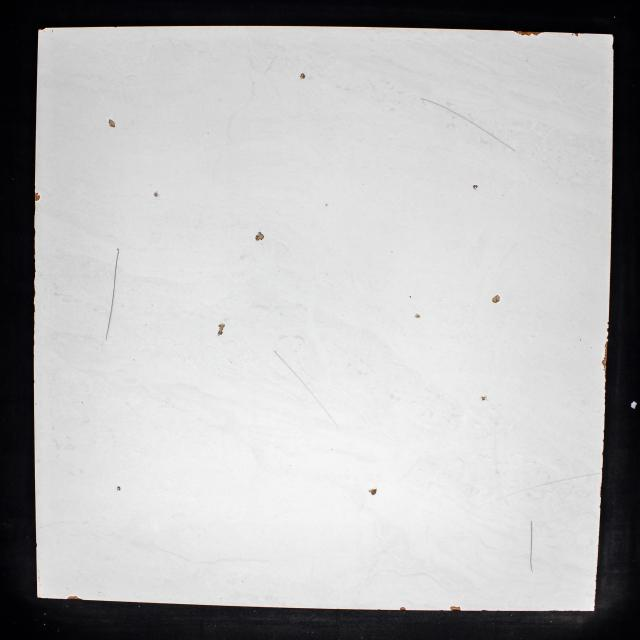edge-chipping: (602, 341, 607, 378), (514, 30, 544, 36), (67, 596, 82, 600), (450, 606, 461, 611), (34, 192, 40, 201), (399, 607, 406, 610), (574, 33, 579, 37), (38, 28, 46, 30), (606, 336, 608, 338), (607, 328, 608, 332)
hole: (217, 323, 225, 336), (256, 232, 264, 241), (492, 295, 500, 303), (109, 119, 115, 128), (369, 489, 377, 495), (300, 73, 306, 79), (481, 396, 486, 401), (414, 314, 420, 318), (473, 185, 478, 189), (154, 192, 158, 197), (116, 486, 120, 491)
line: (420, 97, 516, 151), (274, 350, 338, 426), (492, 472, 600, 502), (104, 246, 120, 340), (529, 519, 533, 572)
